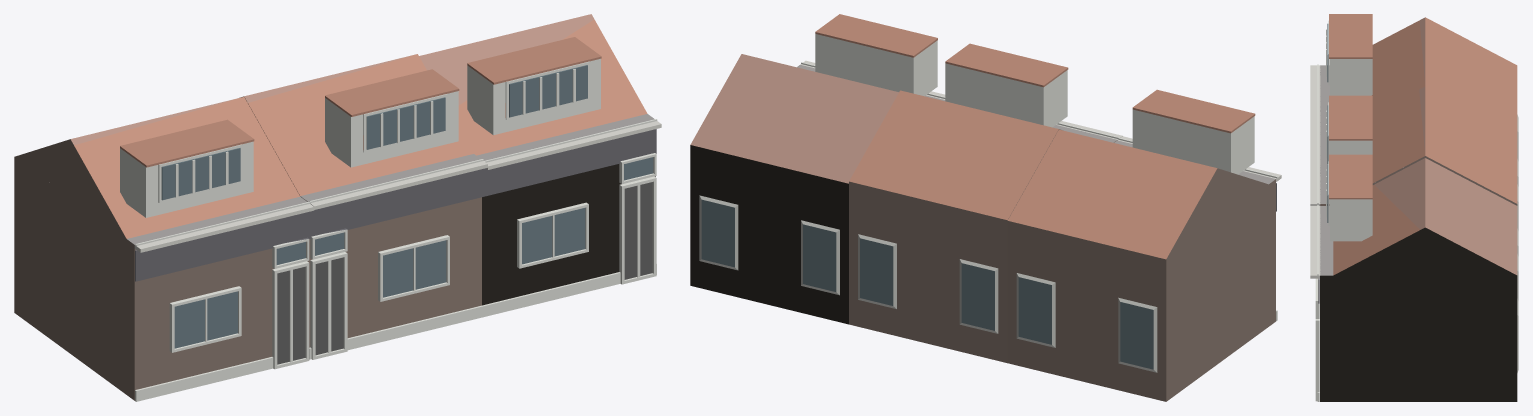
Rendered from chunk-face-vogel-2-16-122155-r1.lod2.glb.
3 renders of one model, left to right at view 1: azimuth 30°, elevation 25°; view 2: azimuth 150°, elevation 25°; view 3: azimuth 270°, elevation 25°, orthographic. The views are drawn at different scales.
Parts seen in each view (by area): view 1: lod2; view 2: lod2; view 3: lod2.
Boxes of the visible parts, x1,y1,x2,y2 form: lod2: (14, 14, 661, 401); lod2: (690, 14, 1281, 401); lod2: (1310, 14, 1518, 401).
Size of the model in its own units: 15 by 6.27 by 6.34.
